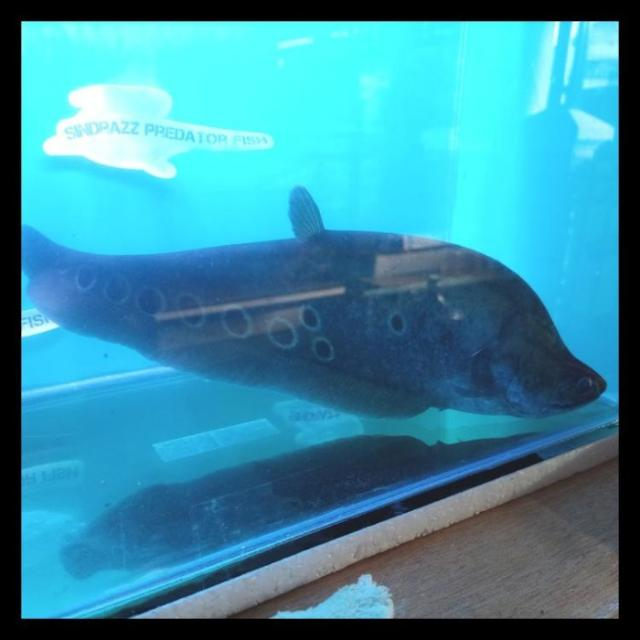Mulut: (547, 356, 617, 434)
Sirip Punggung: (281, 178, 343, 260)
